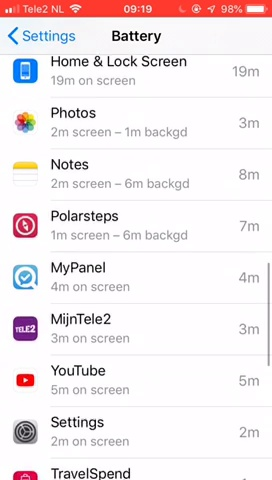app: (13, 103, 261, 138), (13, 153, 261, 188), (11, 207, 259, 242), (12, 260, 260, 295), (12, 310, 260, 345), (15, 364, 263, 399), (12, 415, 260, 450)
